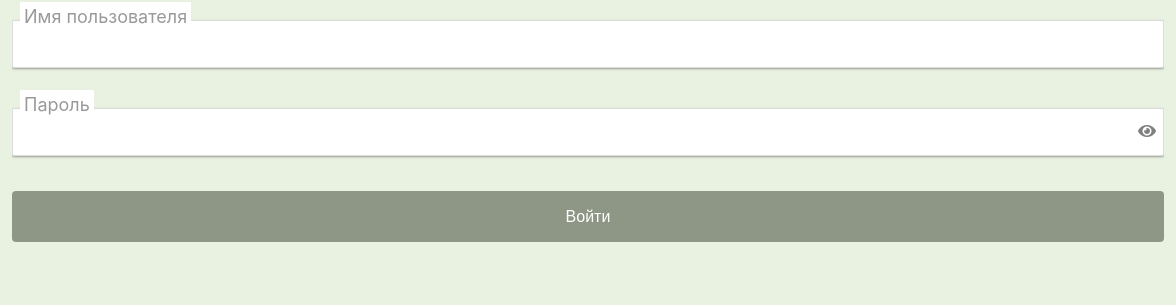
LoginFormContainer › renders error for invalid credentials
Expected: the submit button is disabled, [12, 191, 1164, 242]
Type "test" into the field labelled "Имя пользователя" at [588, 44], box [12, 20, 1164, 68]
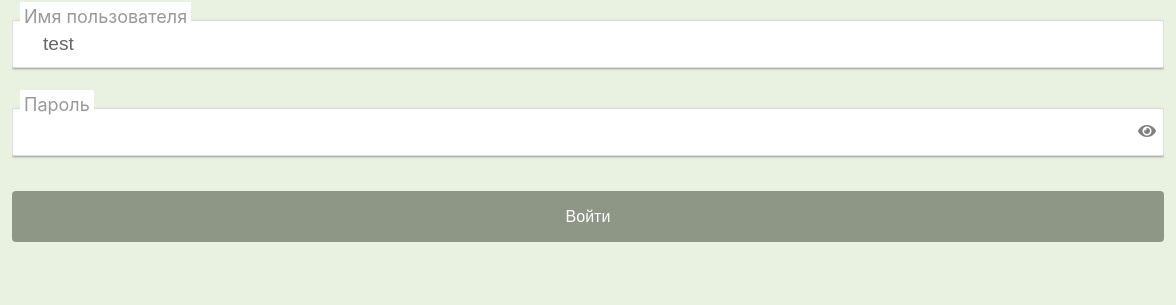
Type "12345678" into the password field labelled "Пароль" at [588, 132], box [12, 108, 1164, 156]
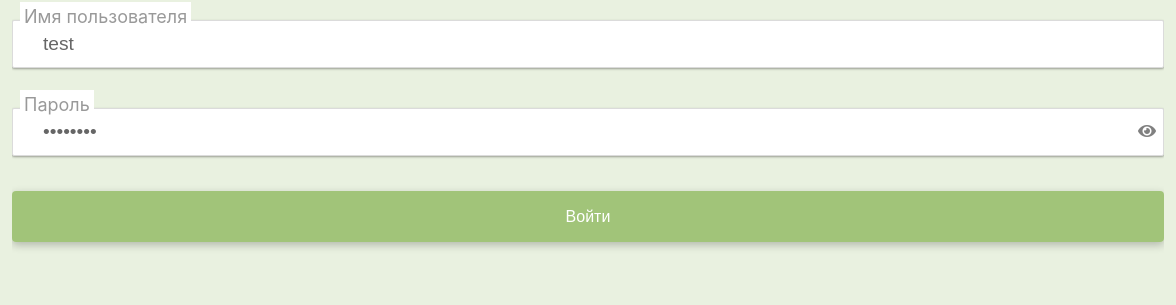
Click the submit button at [588, 217], box [12, 191, 1164, 242]
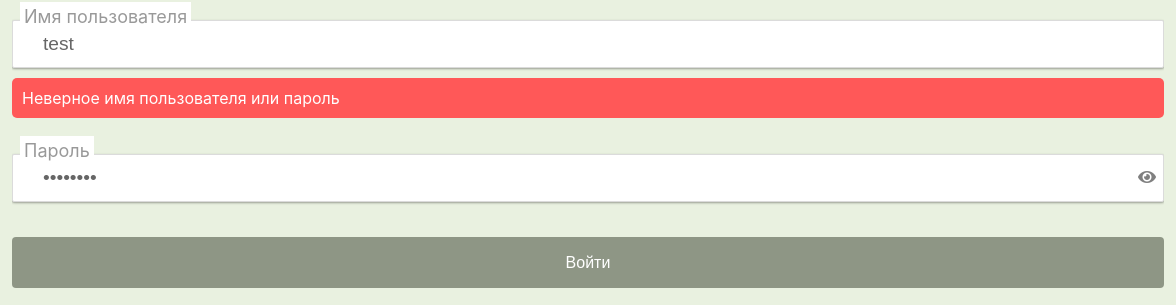
Now the text "Неверное имя пользователя или пароль" is shown, box [12, 78, 1164, 118]
